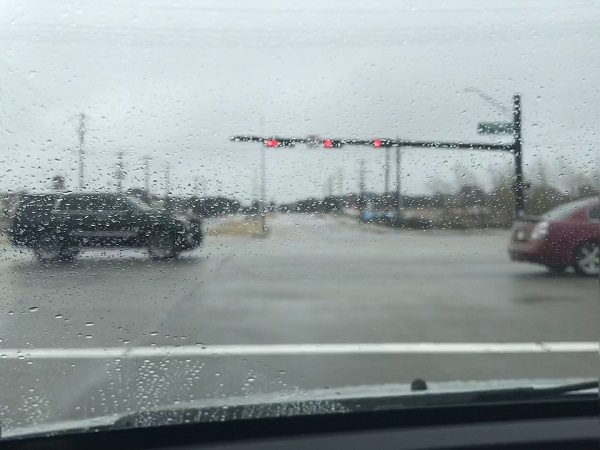car: (9, 194, 202, 260), (510, 196, 600, 281)
